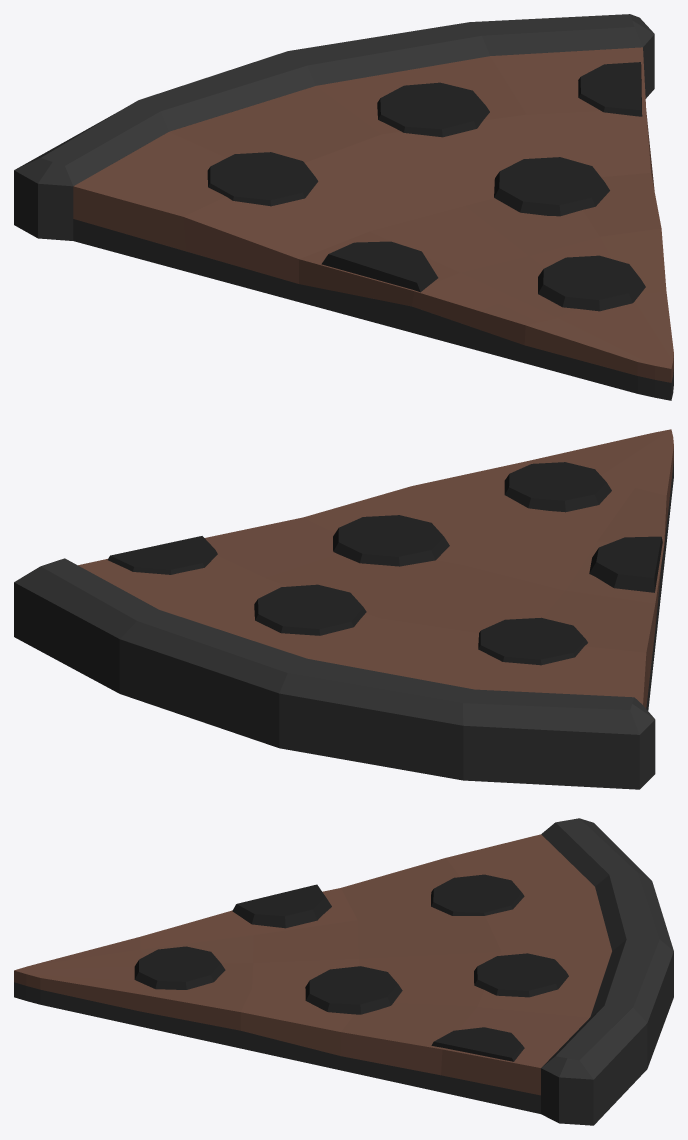
File: Pizza_Burned.glb
3 views of the same model, one above another, from view 1: azimuth 30°, elevation 25°; view 2: azimuth 150°, elevation 25°; view 3: azimuth 270°, elevation 25° (orthographic). The views are drawn at different scales.
Parts seen in each view (by area): view 1: Pizza_Burned; view 2: Pizza_Burned; view 3: Pizza_Burned.
Part boxes in pixels (box(x1,y1,x2,y2)): Pizza_Burned: box(14, 14, 673, 400); Pizza_Burned: box(14, 429, 673, 789); Pizza_Burned: box(14, 818, 673, 1125).
Size of the model in its own units: 1.07 by 0.1128 by 1.16.
